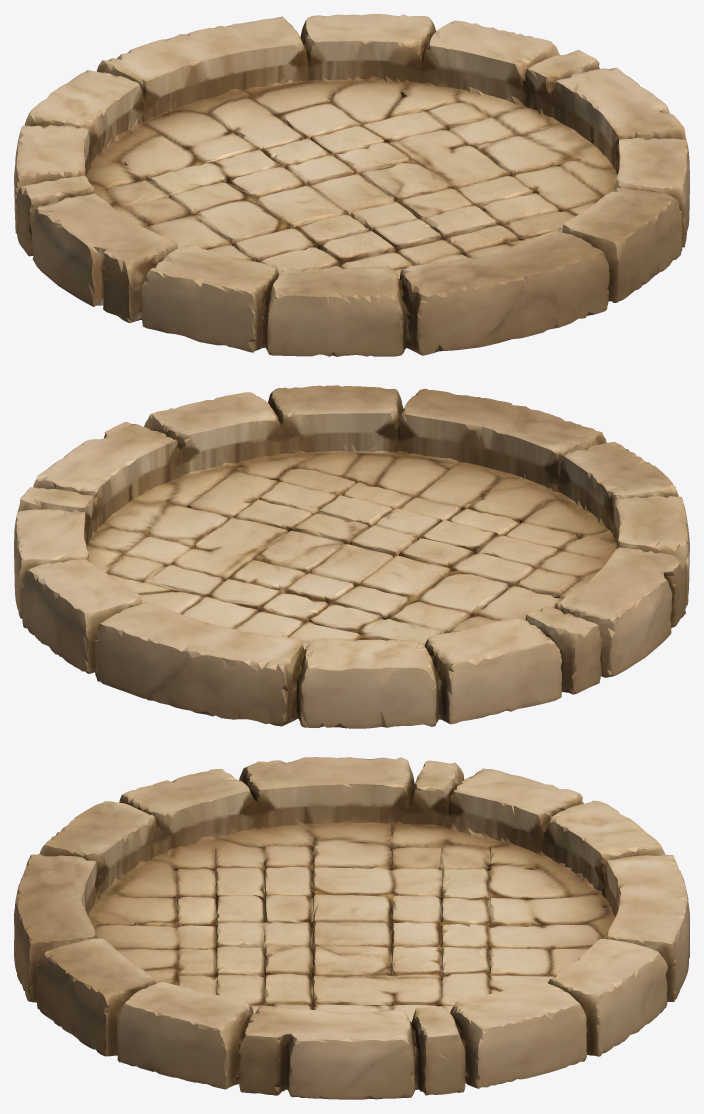
File: ancient_stone_pathway_segment.glb
3 renders of one model, top to bottom at view 1: azimuth 30°, elevation 25°; view 2: azimuth 150°, elevation 25°; view 3: azimuth 270°, elevation 25°, orthographic.
Parts seen in each view (by area): view 1: ancient_stone_pathway_segment; view 2: ancient_stone_pathway_segment; view 3: ancient_stone_pathway_segment.
Part boxes in pixels (x1,y1,x2,y2): ancient_stone_pathway_segment: [14, 14, 689, 356]; ancient_stone_pathway_segment: [14, 385, 689, 728]; ancient_stone_pathway_segment: [14, 757, 689, 1099].
Bounding box in the file's own units: 1.9 × 0.1893 × 1.89.
Materials: 1 (1 with a texture image).
